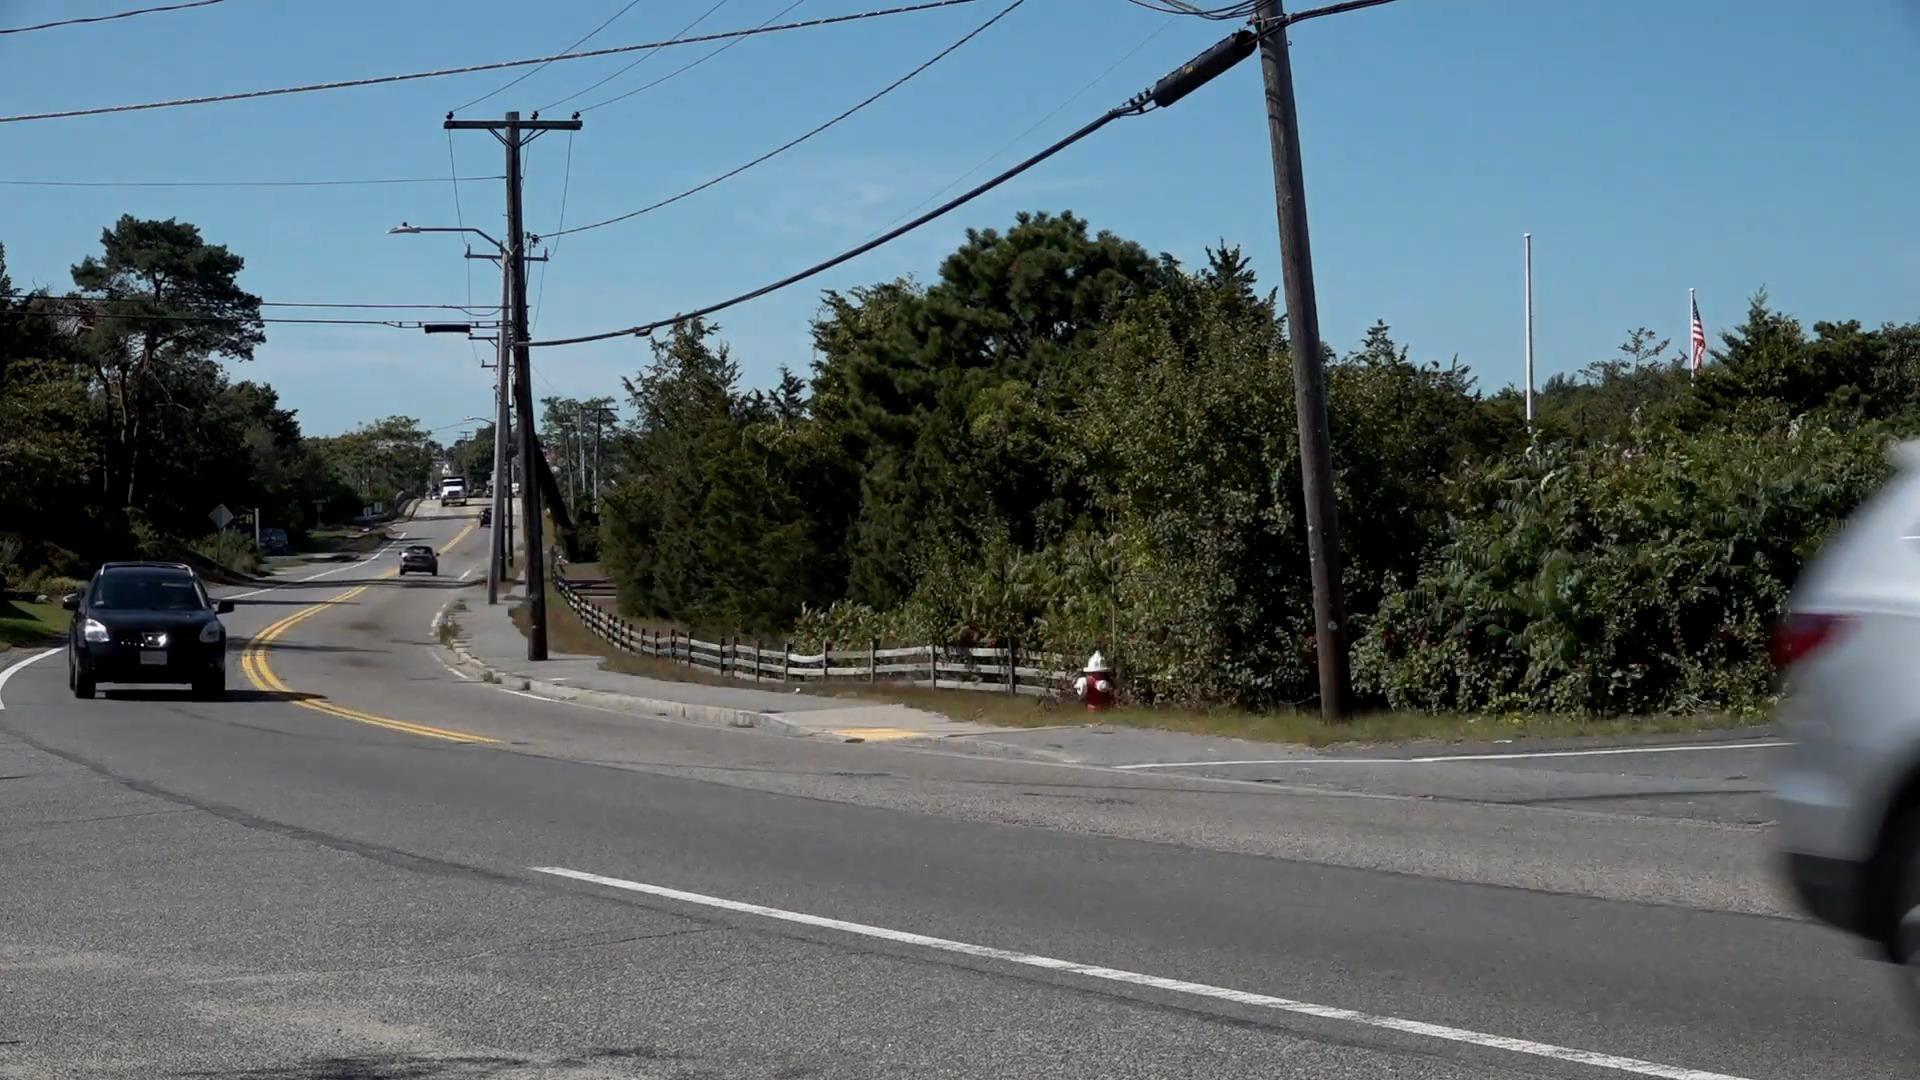suv: (65, 547, 235, 708)
